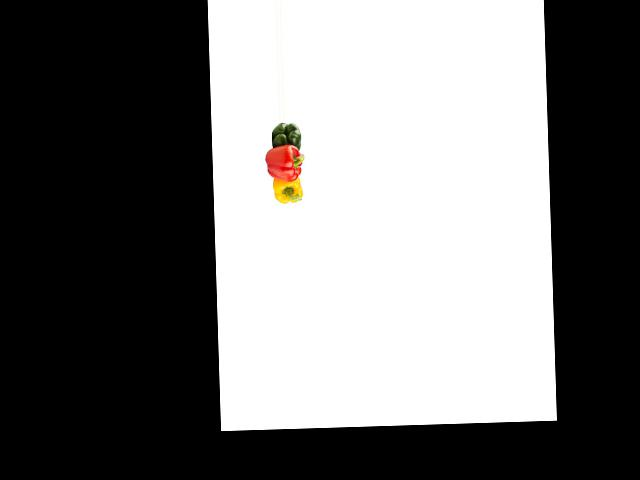bell_pepper: (266, 174, 306, 205)
